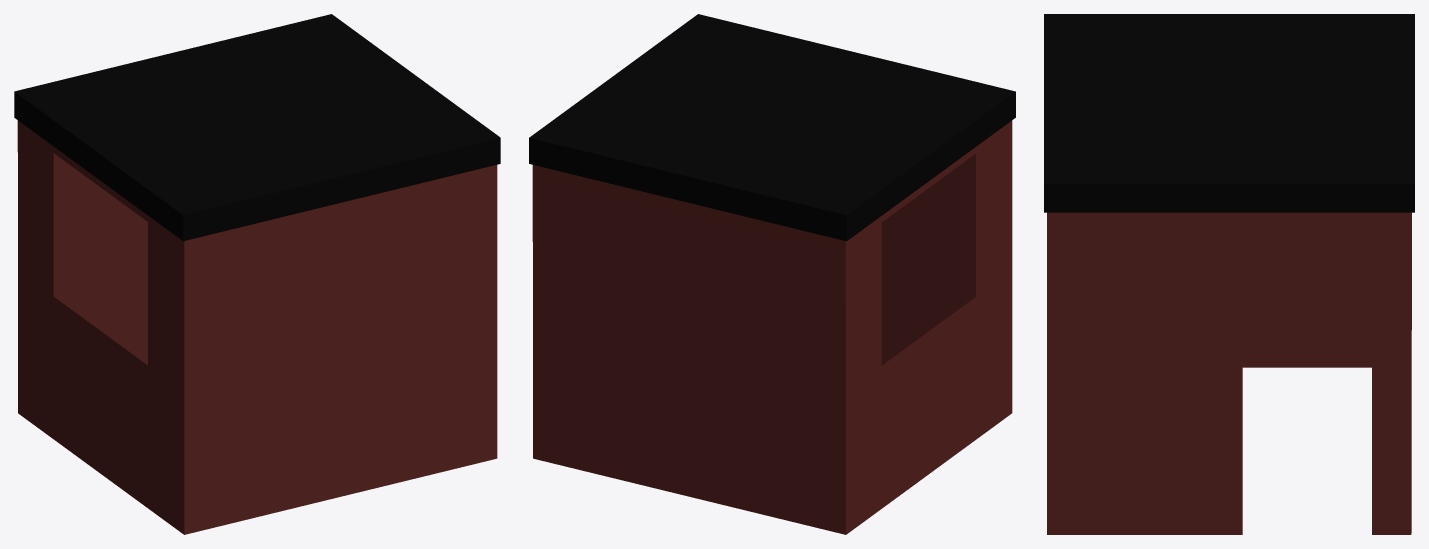
File: Ensuite (2).fbx
3 renders of one model, left to right at view 1: azimuth 30°, elevation 25°; view 2: azimuth 150°, elevation 25°; view 3: azimuth 270°, elevation 25°, orthographic. The views are drawn at different scales.
Visible parts, largest first — view 1: Ensuite (2); view 2: Ensuite (2); view 3: Ensuite (2).
Boxes of the visible parts, x1,y1,x2,y2 form: Ensuite (2): (14,14,500,534); Ensuite (2): (529,14,1015,534); Ensuite (2): (1044,14,1414,534).
Bounding box in the file's own units: 242 × 234 × 223.
